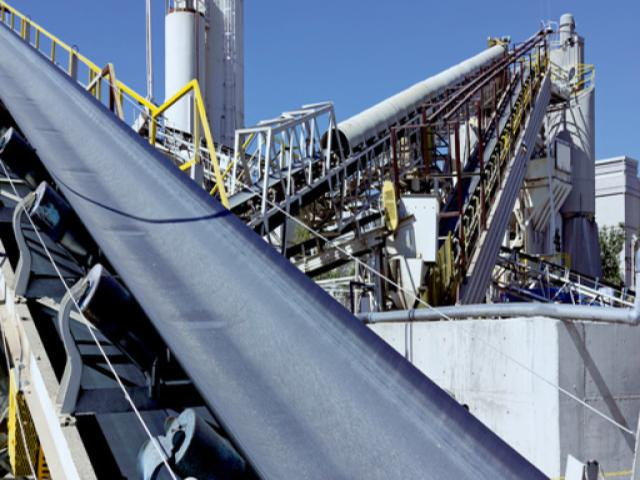conveyor: (0, 17, 552, 480)
